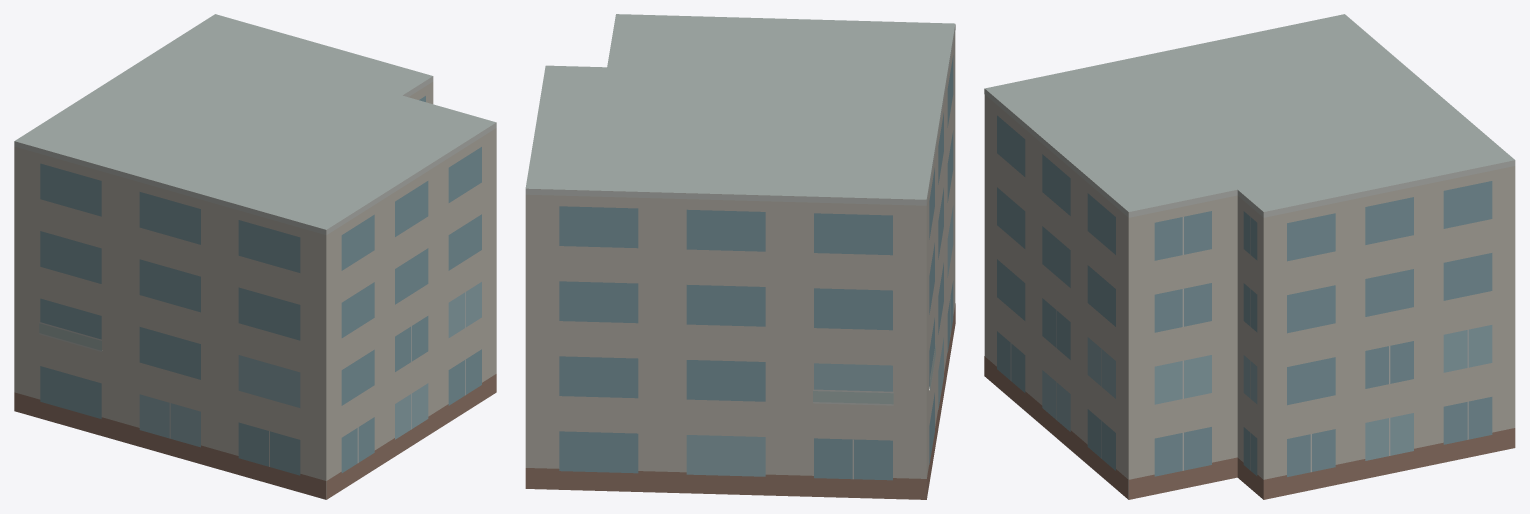
The model's file is survey-upis-32905529.glb.
3 views of the same model, side by side, from view 1: azimuth 30°, elevation 25°; view 2: azimuth 150°, elevation 25°; view 3: azimuth 270°, elevation 25° (orthographic). The views are drawn at different scales.
Visible parts, largest first — view 1: survey-upis-32905529.tmp; view 2: survey-upis-32905529.tmp; view 3: survey-upis-32905529.tmp.
Boxes of the visible parts, x1,y1,x2,y2 form: survey-upis-32905529.tmp: [14, 14, 496, 499]; survey-upis-32905529.tmp: [525, 14, 955, 499]; survey-upis-32905529.tmp: [984, 14, 1515, 499].
Bounding box in the file's own units: 18.02 × 12.2 × 20.4.
